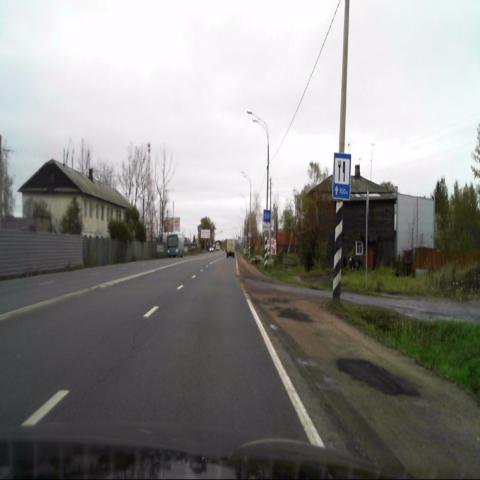7_7: (333, 152, 350, 201)
